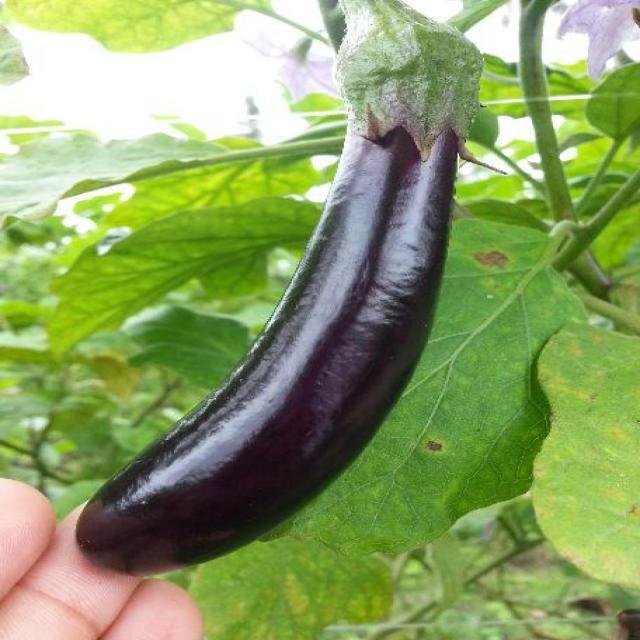eggplant: (73, 2, 525, 611)
